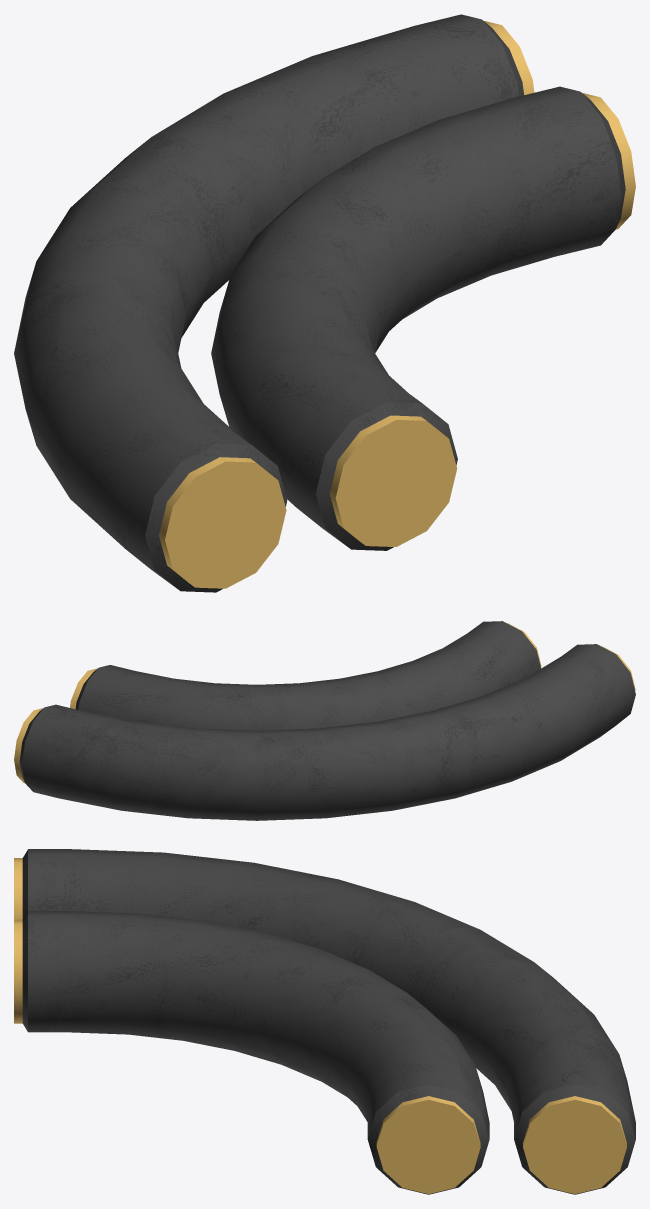
Rendered from 2_pipes_90.fbx.
3 renders of one model, top to bottom at view 1: azimuth 30°, elevation 25°; view 2: azimuth 150°, elevation 25°; view 3: azimuth 270°, elevation 25°, orthographic. The views are drawn at different scales.
Parts seen in each view (by area): view 1: Cylinder.121; view 2: Cylinder.121; view 3: Cylinder.121.
Boxes of the visible parts, <box> form: Cylinder.121: <box>14,14,635,592</box>; Cylinder.121: <box>14,621,635,820</box>; Cylinder.121: <box>14,849,635,1194</box>.
Bounding box in the file's own units: 255 × 50 × 255.
